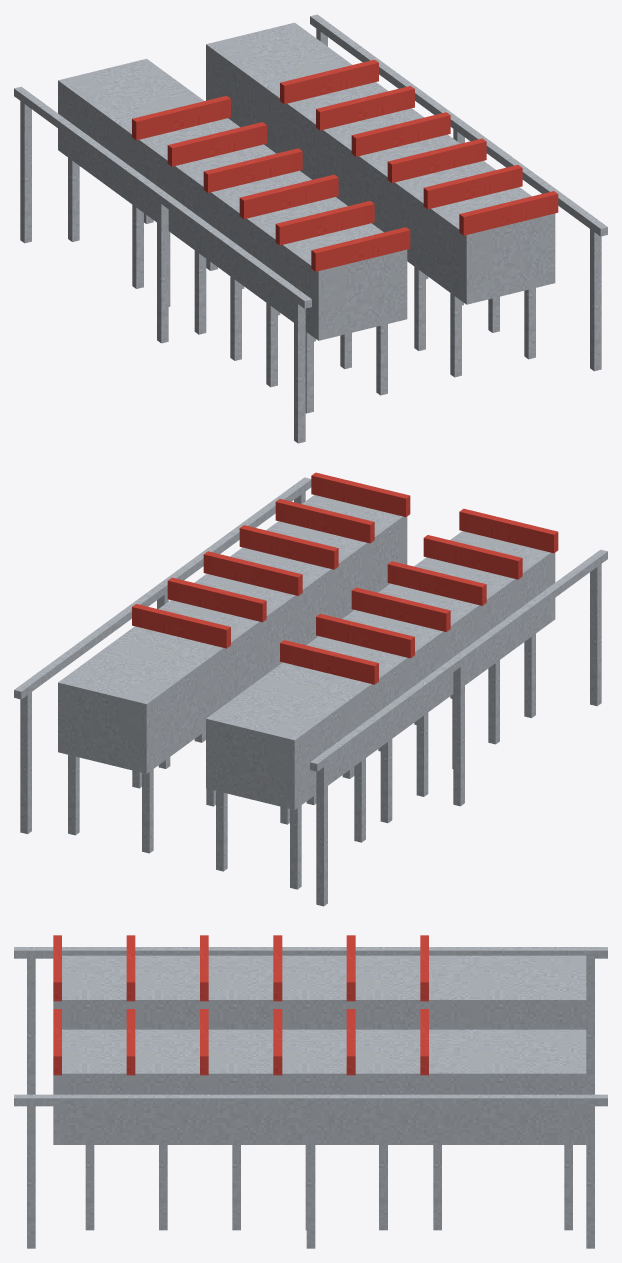
3 views of the same model, one above another, from view 1: azimuth 30°, elevation 25°; view 2: azimuth 150°, elevation 25°; view 3: azimuth 270°, elevation 25° (orthographic). The views are drawn at different scales.
Visible parts, largest first — view 1: Decor_cart_pen; view 2: Decor_cart_pen; view 3: Decor_cart_pen.
Part boxes in pixels (bbox=[...]): Decor_cart_pen: bbox=[14, 14, 607, 443]; Decor_cart_pen: bbox=[14, 472, 607, 906]; Decor_cart_pen: bbox=[14, 935, 607, 1248].
Size of the model in its own units: 2.05 by 1.12 by 3.4.
2 materials, 2 textured.
